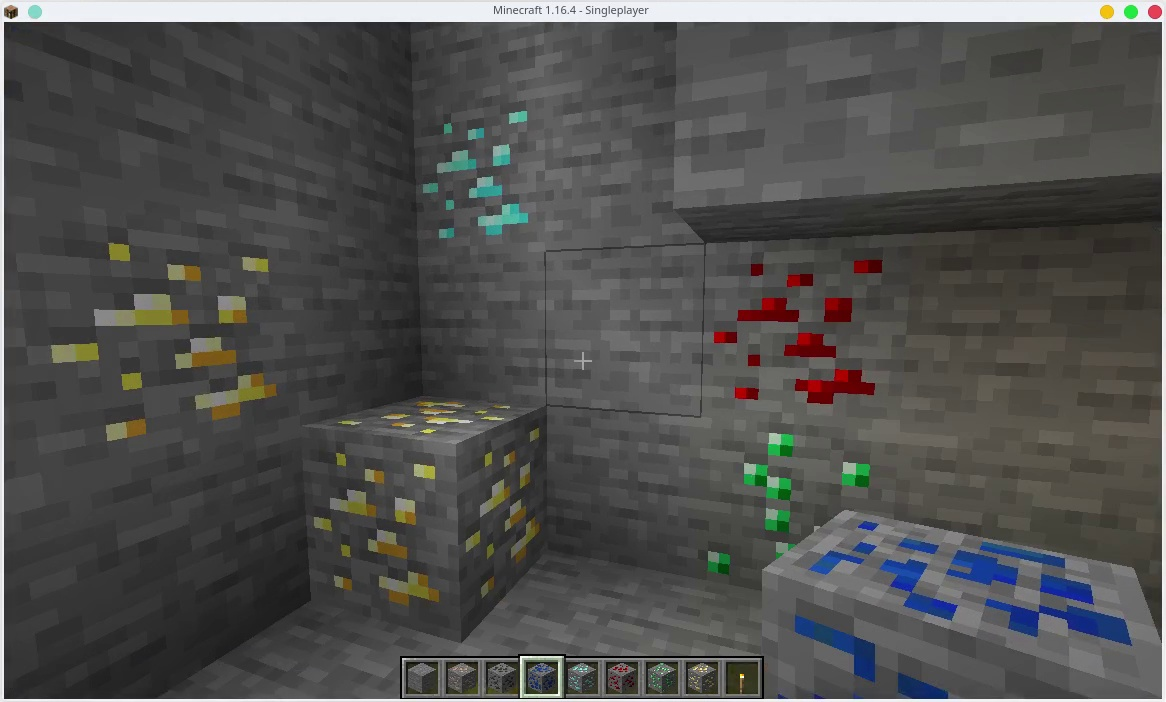gold: (27, 223, 282, 448), (306, 402, 557, 617), (684, 661, 719, 695)
